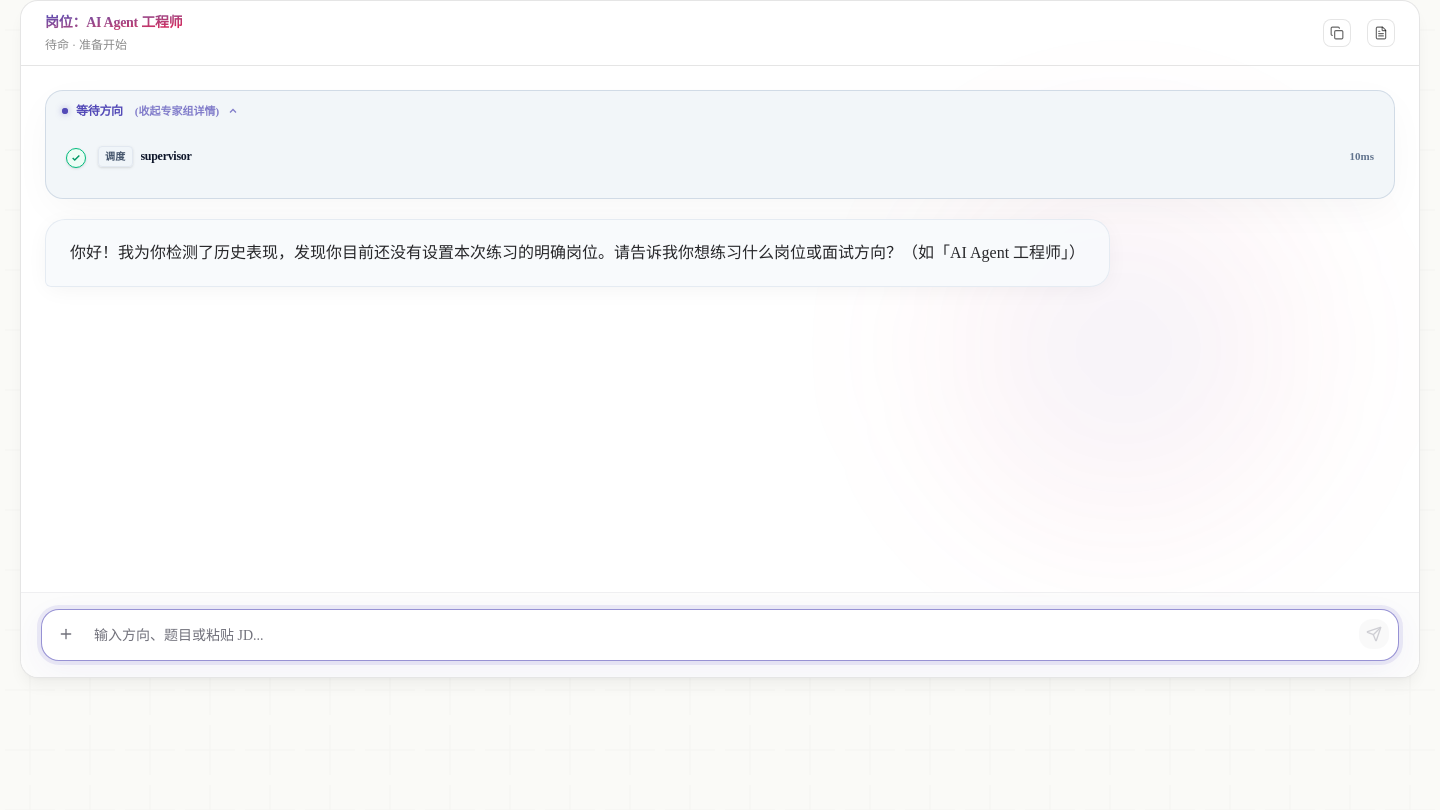
InterviewChat › autoLaunch 进入 need_direction 后，resume 完成会兜底启动首题
This screenshot has width=1440, height=810.
Expected: the text "请告诉我你想练习什么岗位" is shown, [70,244,1085,260]
Type "AI Agent 工程师" into the text box named "输入面试练习内容" at (720, 636), box [90,620,1350,652]
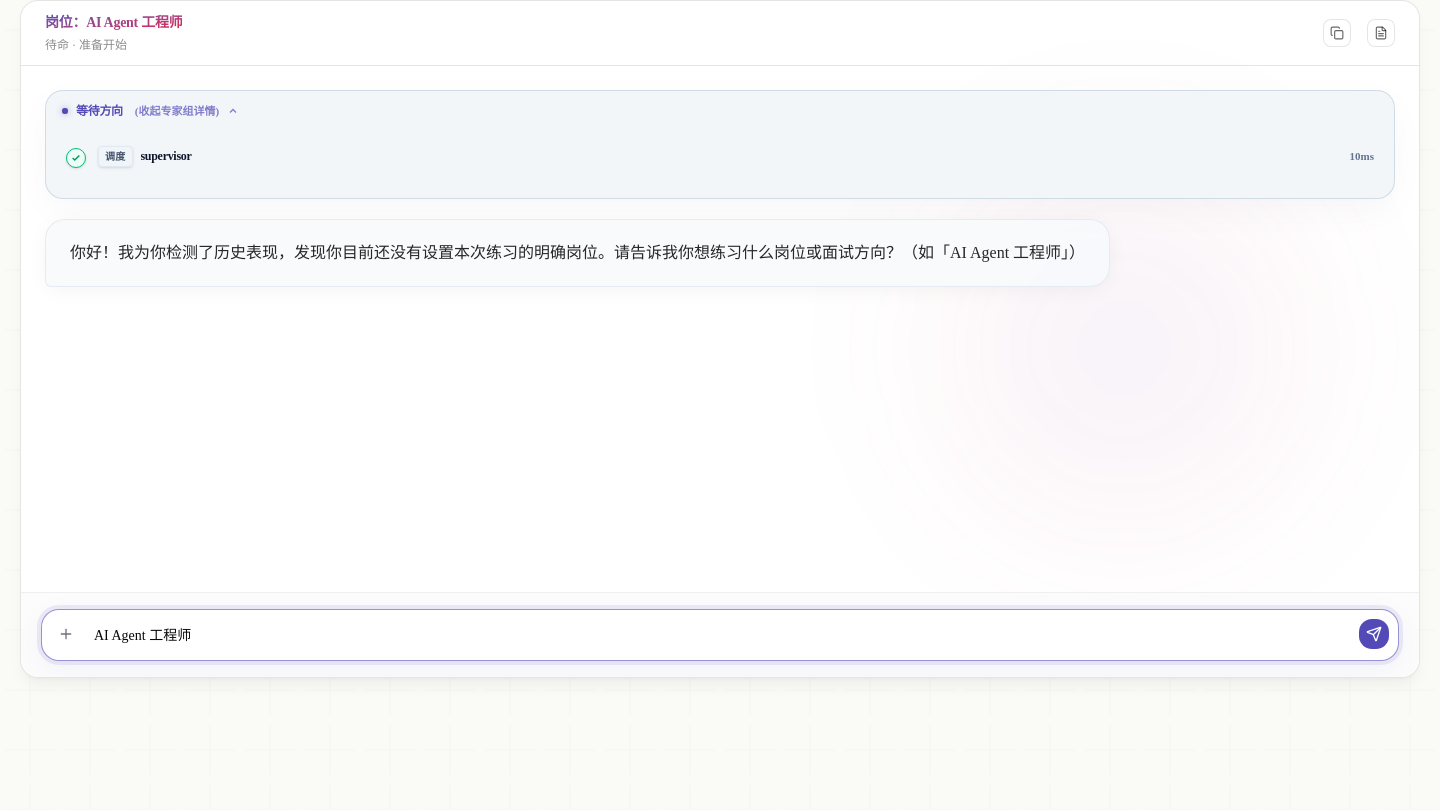
Click the button named "发送" at (1374, 634), box [1358,618,1390,650]
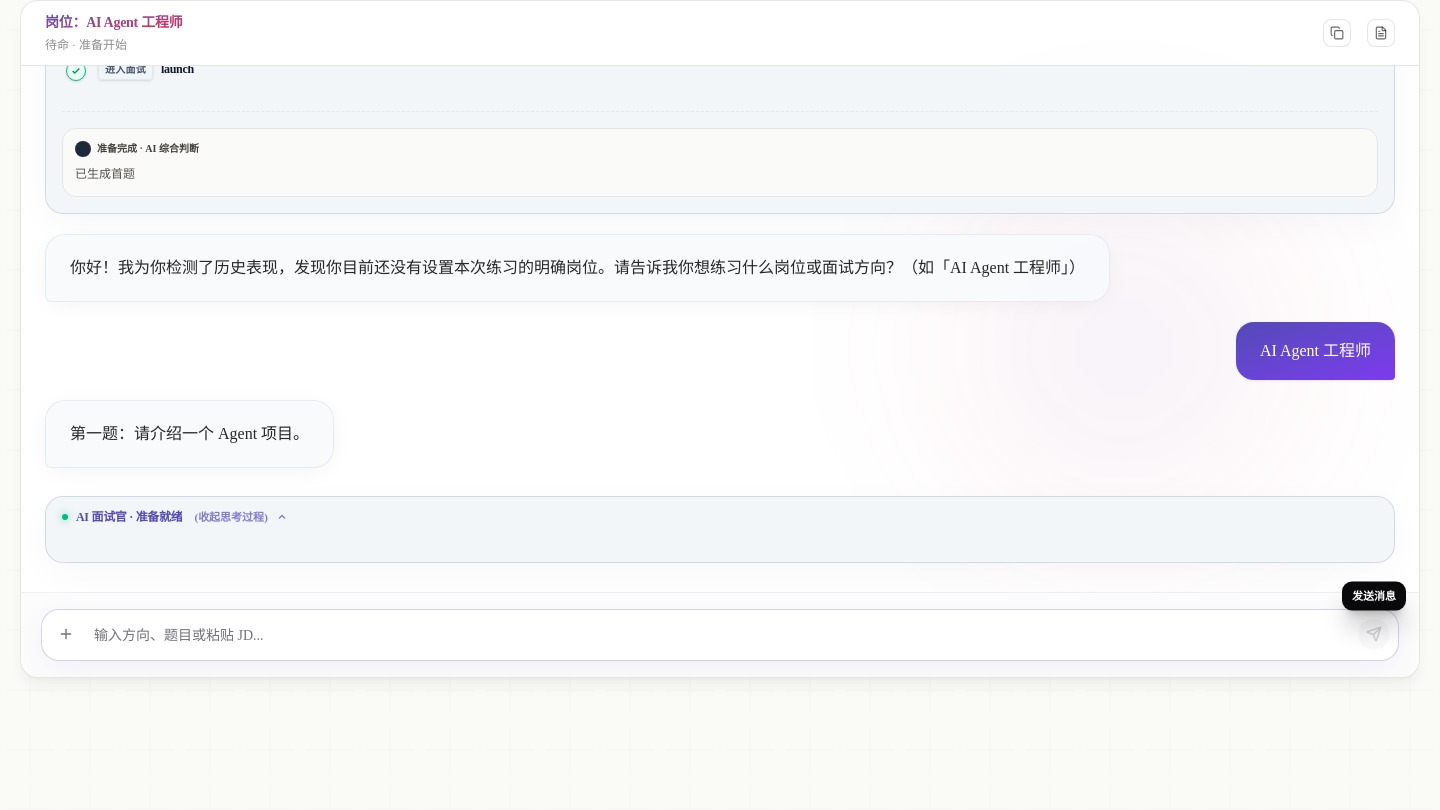
Now the text "第一题：请介绍一个 Agent 项目。" is shown, box [70,421,309,447]
